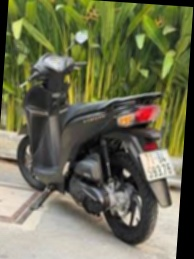Bien-so: (143, 137, 185, 175)
